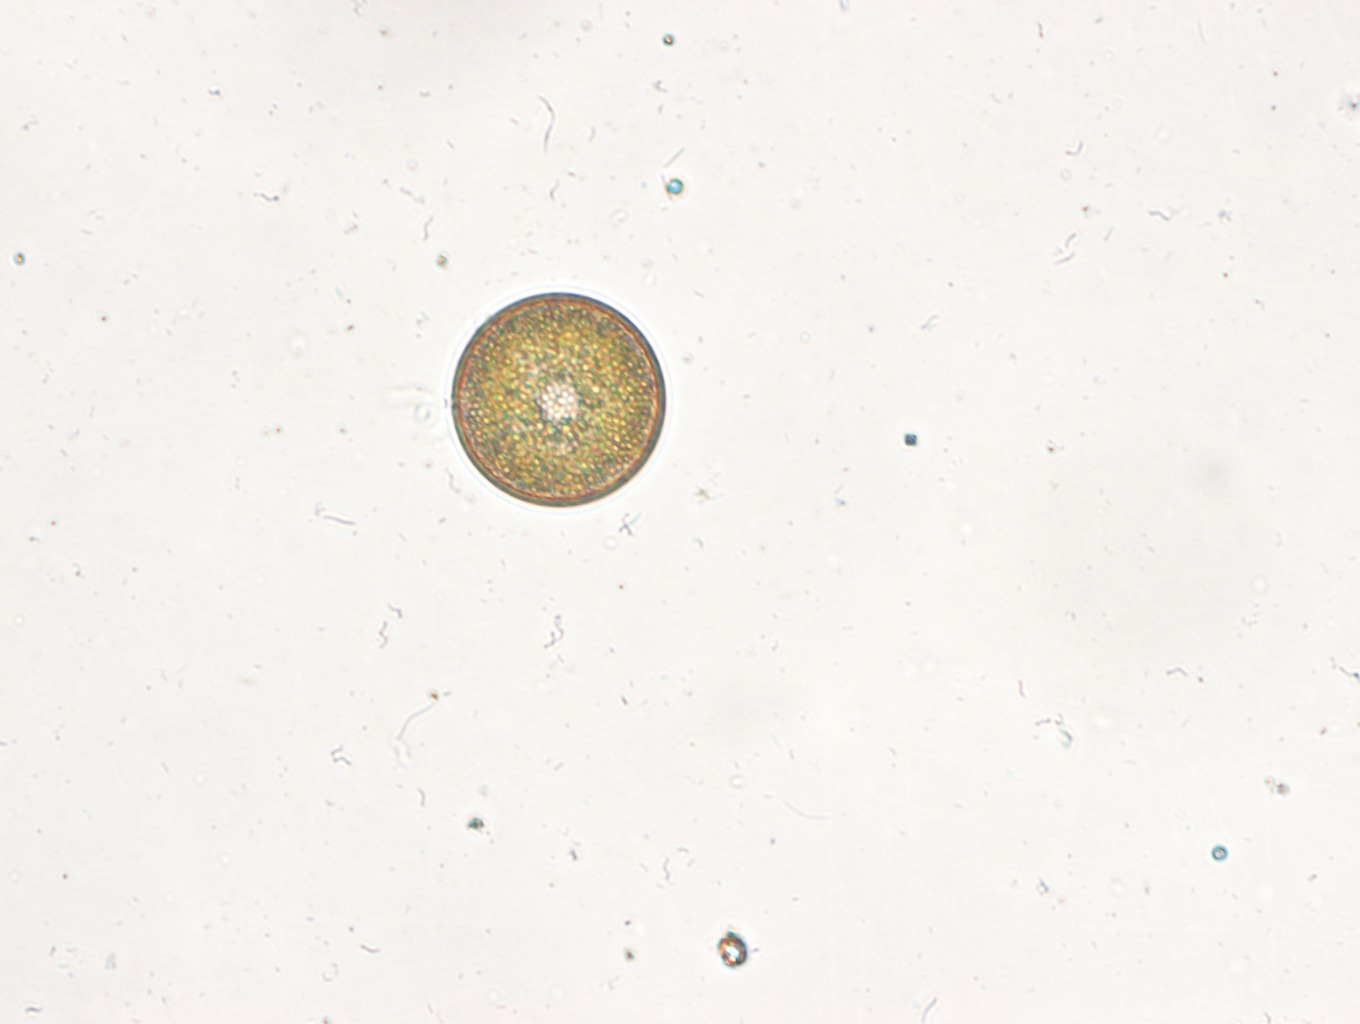coscinodiscus: (446, 289, 672, 511)
